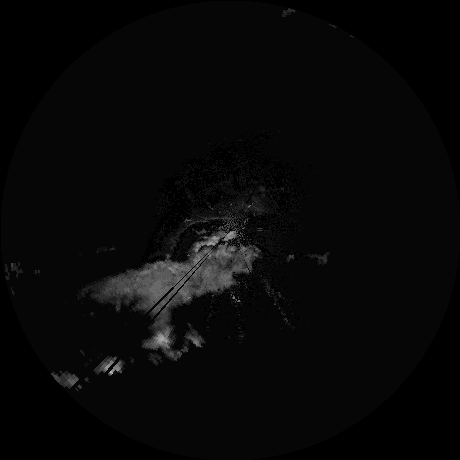frontgust: (167, 218, 230, 245)
